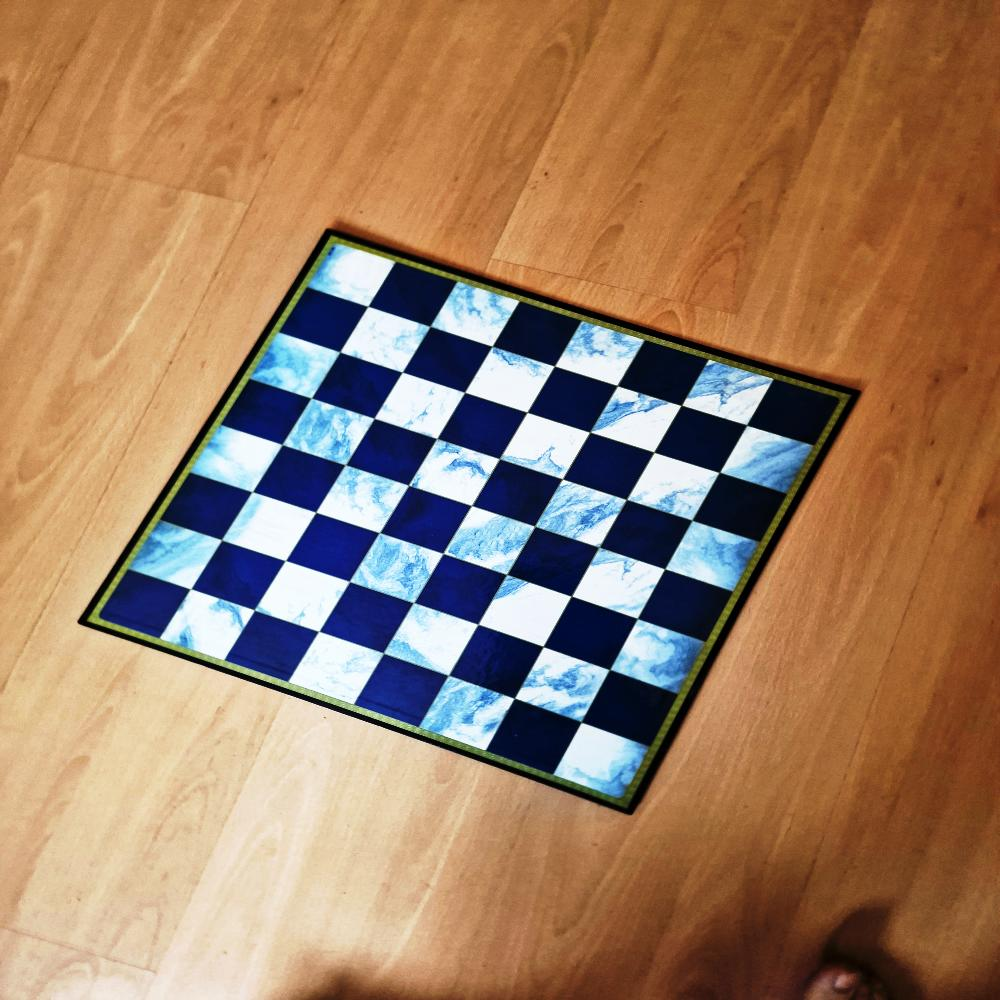chessfield: (555, 724, 652, 814), (611, 620, 708, 700), (517, 646, 613, 725), (668, 521, 763, 597), (420, 674, 515, 750), (583, 673, 676, 749), (255, 562, 350, 636), (574, 546, 668, 620), (128, 518, 224, 590), (723, 425, 816, 499), (292, 634, 386, 706), (388, 607, 480, 680), (482, 577, 576, 648), (640, 571, 732, 643), (228, 493, 320, 565), (490, 705, 582, 777), (683, 358, 779, 427), (350, 534, 444, 604), (302, 239, 396, 309), (548, 597, 640, 668), (166, 593, 256, 665), (443, 509, 535, 579), (316, 470, 410, 538), (192, 540, 286, 608), (451, 629, 543, 698), (632, 450, 724, 519), (596, 389, 688, 458), (284, 400, 377, 468), (252, 332, 346, 399), (190, 425, 284, 492), (228, 613, 319, 682), (557, 318, 647, 387), (378, 372, 469, 440), (360, 656, 451, 724), (339, 308, 431, 375), (750, 381, 842, 448), (410, 442, 500, 510), (694, 474, 784, 542), (430, 283, 520, 351), (503, 412, 593, 480), (252, 448, 344, 514), (657, 407, 749, 473), (289, 515, 379, 582), (536, 485, 626, 552), (322, 582, 411, 649), (470, 345, 560, 411), (605, 504, 695, 570), (416, 556, 506, 622), (384, 486, 474, 552), (95, 568, 186, 633), (510, 530, 599, 596), (566, 433, 656, 498), (621, 342, 711, 407), (529, 367, 617, 432), (405, 327, 493, 392), (474, 461, 562, 526), (496, 302, 584, 367), (372, 261, 460, 326), (349, 420, 437, 484), (442, 395, 528, 460), (283, 290, 370, 354), (167, 478, 253, 542), (314, 352, 399, 416), (224, 385, 309, 448)
